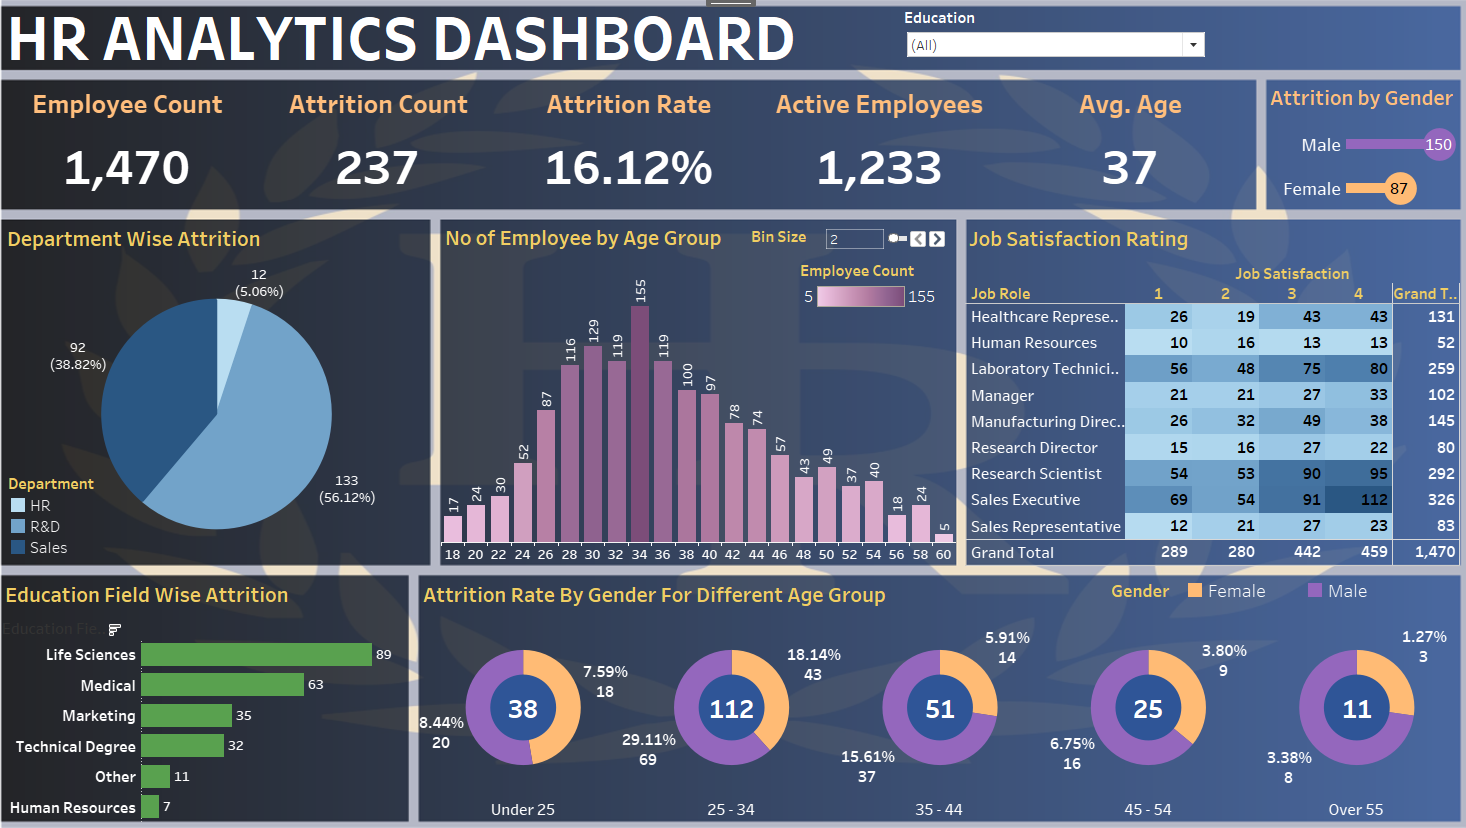

This screenshot's page, from the dashboard's own definition file:
{"tool":"tableau","page":{"name":"HR Dashboard ","canvas":[1580,900],"ordinal":0},"visuals":[{"type":"image","param":"Image/HR background.pptx.png","box":[8,8,1564,884]},{"type":"text","box":[19,19,1028,65]},{"type":"filter","title":"Department wise Attrition","param":"[federated.0f0h03p1it3gvo176rhln1y1tx4v].[none:Education:nk]","box":[975,21,231,62]},{"type":"text","box":[1375,53,183,30]},{"type":"worksheet","title":"Attrition by Gender","mark":"Automatic","rows":["Gender"],"cols":["Calculation_231935388807032832","Calculation_231935388807032832"],"box":[1345,93,216,139]},{"type":"worksheet","title":"KPI","mark":"Automatic","box":[18,96,1326,136]},{"type":"worksheet","title":"No. of Employee by Age Group","mark":"Automatic","rows":["Employee Count"],"cols":["Age (bin)"],"box":[484,243,543,365]},{"type":"worksheet","title":"Department wise Attrition","mark":"Pie","box":[20,244,451,365]},{"type":"worksheet","title":"Job Satisfaction Rating","mark":"Square","rows":["Job Role"],"cols":["Job Satisfaction"],"box":[1039,245,525,364]},{"type":"parameter","param":"[Parameters].[Age Parameter]","box":[872,252,155,49]},{"type":"legend","title":"No. of Employee by Age Group","param":"[federated.0f0h03p1it3gvo176rhln1y1tx4v].[sum:Employee Count:qk]","box":[488,279,164,24]},{"type":"legend","title":"Department wise Attrition","param":"[federated.0f0h03p1it3gvo176rhln1y1tx4v].[none:Department:nk]","box":[23,518,140,85]},{"type":"worksheet","title":"Education Field wise Attrition","mark":"Automatic","rows":["Education Field"],"cols":["Calculation_231935388807032832"],"box":[18,619,431,262]},{"type":"worksheet","title":"Attrition Rate by Gender for Different Age Group","mark":"Pie","rows":["Calculation_1302666200262176769","Calculation_1302666200262176769"],"cols":["CF_age band"],"box":[461,620,1098,255]},{"type":"legend","title":"Attrition Rate by Gender for Different Age Group","param":"[federated.0f0h03p1it3gvo176rhln1y1tx4v].[none:Gender:nk]","box":[1111,629,381,31]}]}

Visuals, with their boxes in screenshot pixels (x1, y1, x2, y2), scaled from the page's 1580x900 canvas onto the 1466x828 screenshot:
image: box=[7, 7, 1459, 821]
text: box=[18, 17, 971, 77]
"Department wise Attrition" filter: box=[905, 19, 1119, 76]
text: box=[1276, 49, 1446, 76]
"Attrition by Gender" worksheet: box=[1248, 86, 1448, 213]
"KPI" worksheet: box=[17, 88, 1247, 213]
"No. of Employee by Age Group" worksheet: box=[449, 224, 953, 559]
"Department wise Attrition" worksheet (Pie marks): box=[19, 224, 437, 560]
"Job Satisfaction Rating" worksheet (Square marks): box=[964, 225, 1451, 560]
parameter: box=[809, 232, 953, 277]
"No. of Employee by Age Group" legend: box=[453, 257, 605, 279]
"Department wise Attrition" legend: box=[21, 477, 151, 555]
"Education Field wise Attrition" worksheet: box=[17, 569, 417, 811]
"Attrition Rate by Gender for Different Age Group" worksheet (Pie marks): box=[428, 570, 1447, 805]
"Attrition Rate by Gender for Different Age Group" legend: box=[1031, 579, 1384, 607]
